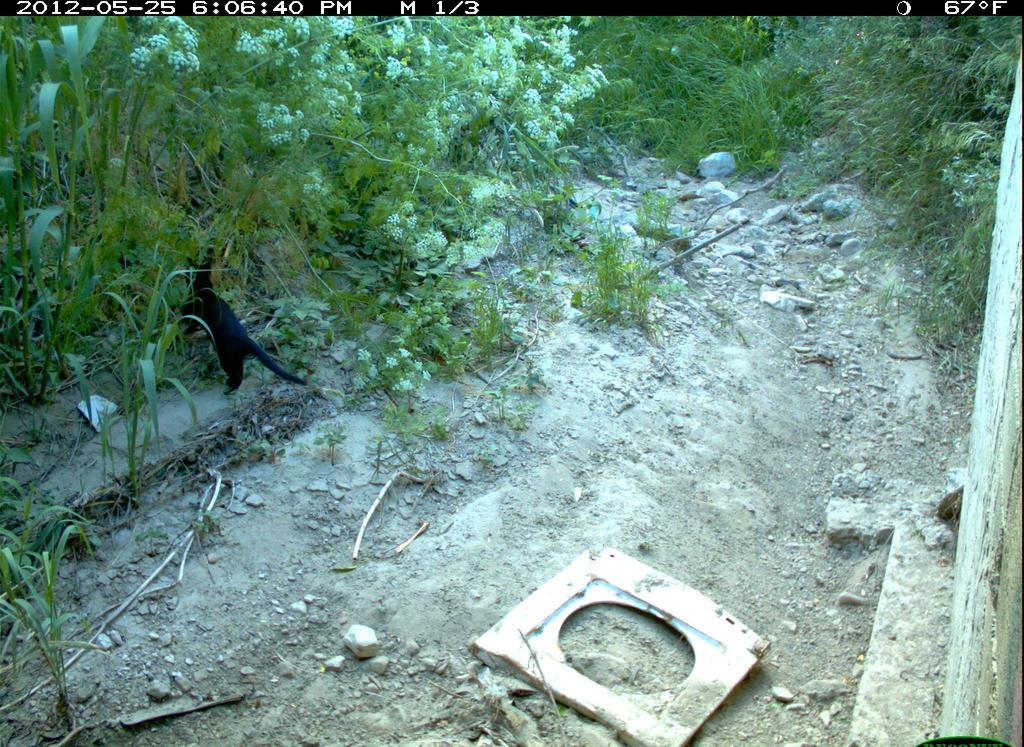cat: (169, 240, 319, 415)
